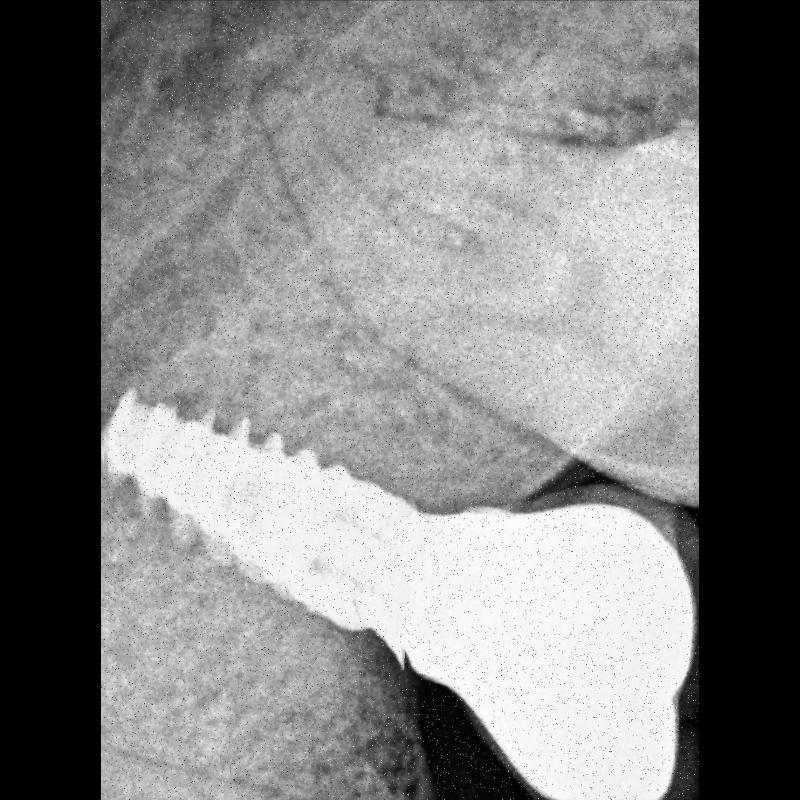ADIN: (101, 362, 415, 665)
